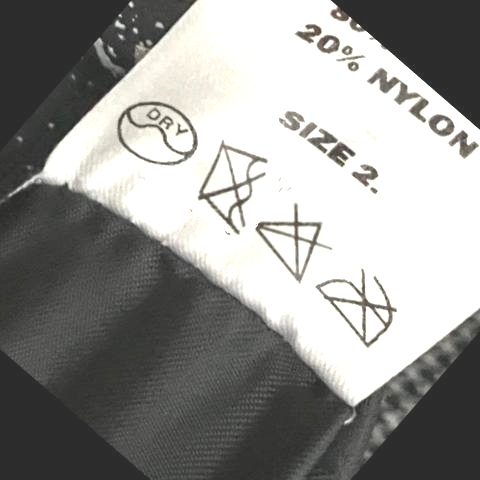DN_bleach: (257, 208, 330, 284)
DN_iron: (317, 263, 401, 354)
DN_wash: (195, 140, 269, 235)
dry_clean: (113, 96, 199, 165)
